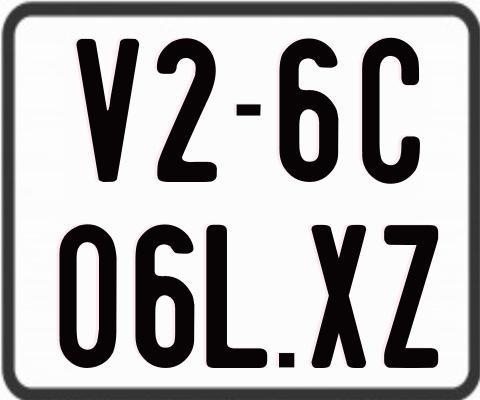0: (58, 223, 121, 372)
2: (155, 38, 221, 187)
6: (276, 36, 340, 186), (132, 222, 194, 369)
C: (361, 35, 421, 181)
L: (204, 223, 268, 366)
V: (74, 39, 139, 185)
X: (308, 225, 364, 371)
Z: (384, 222, 439, 368)
